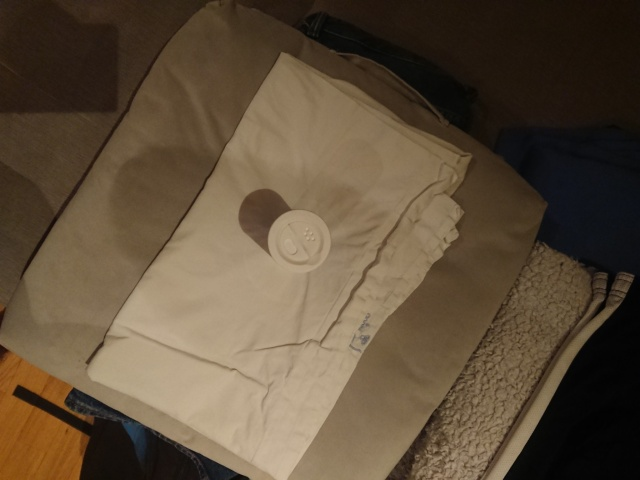Solana Pag Fine Sea Salt 250g: (265, 207, 333, 276)
